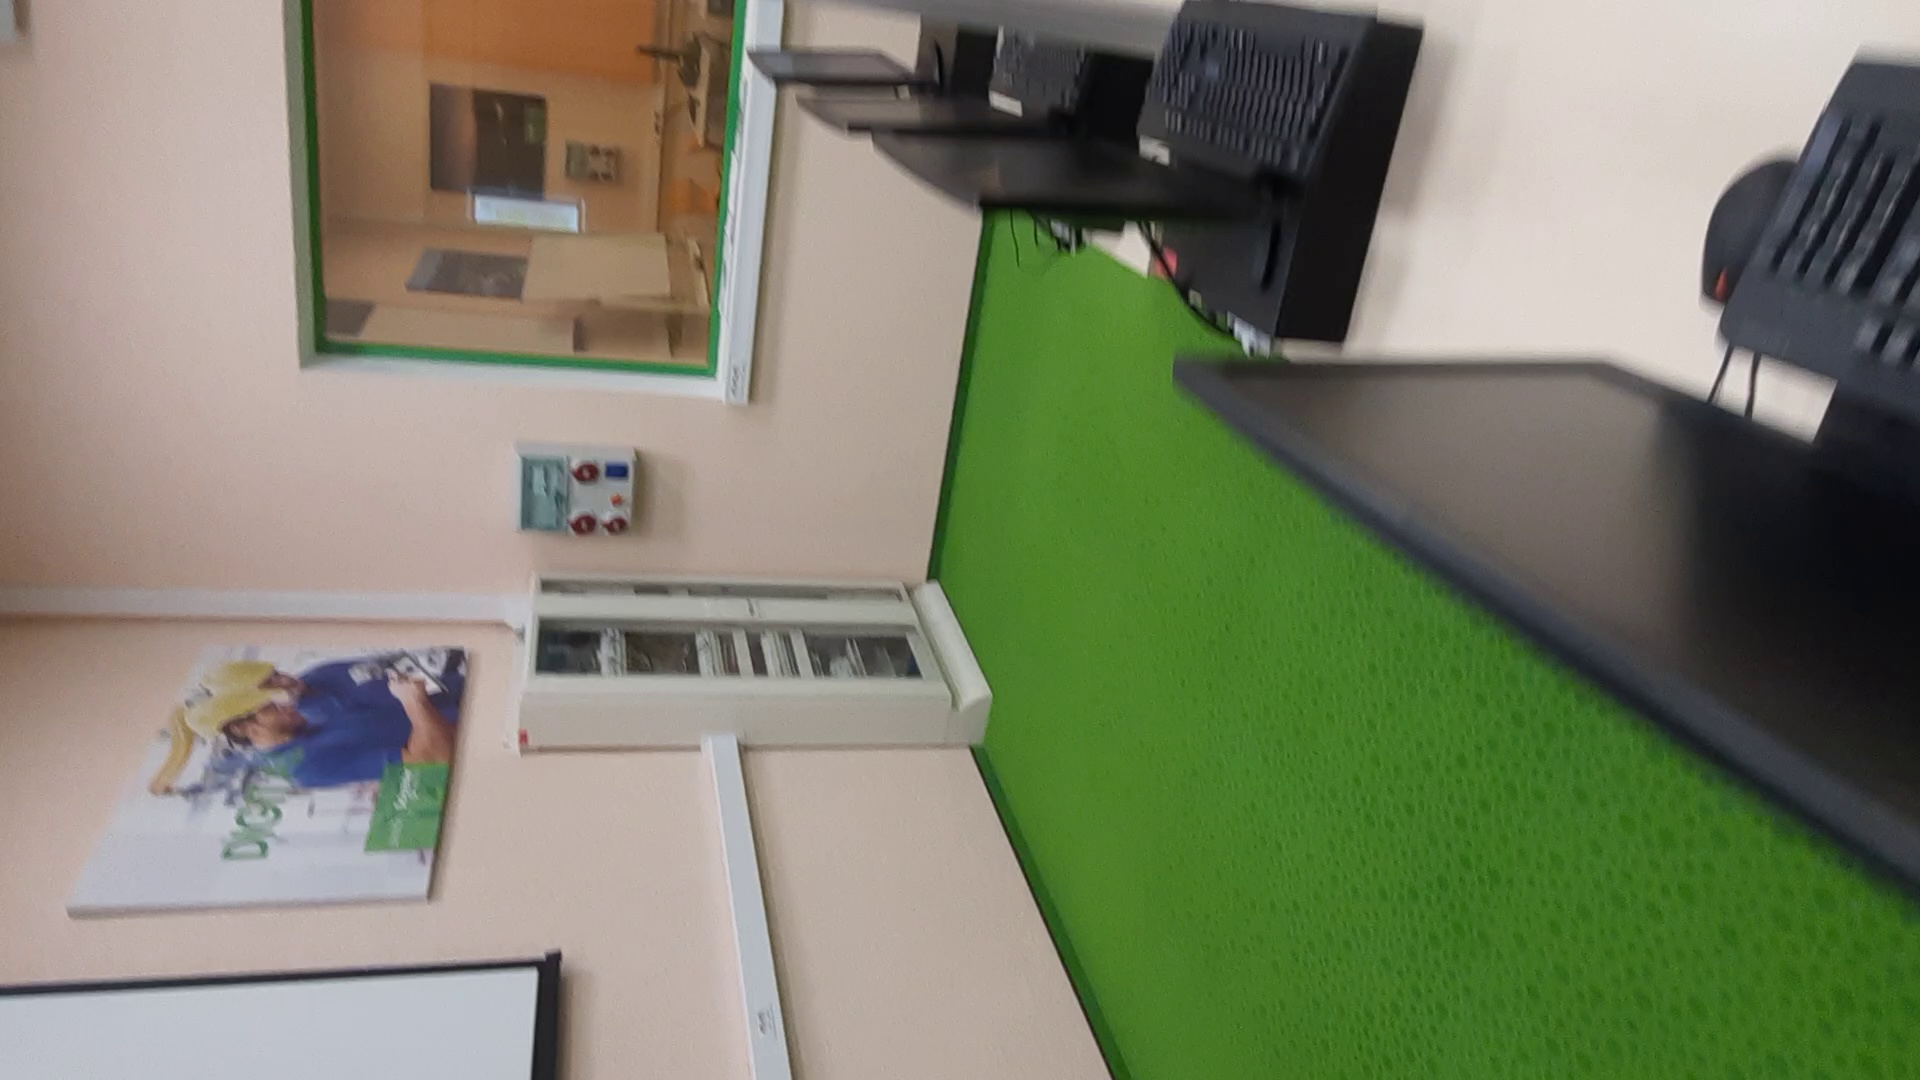stand1: (518, 568, 993, 756)
